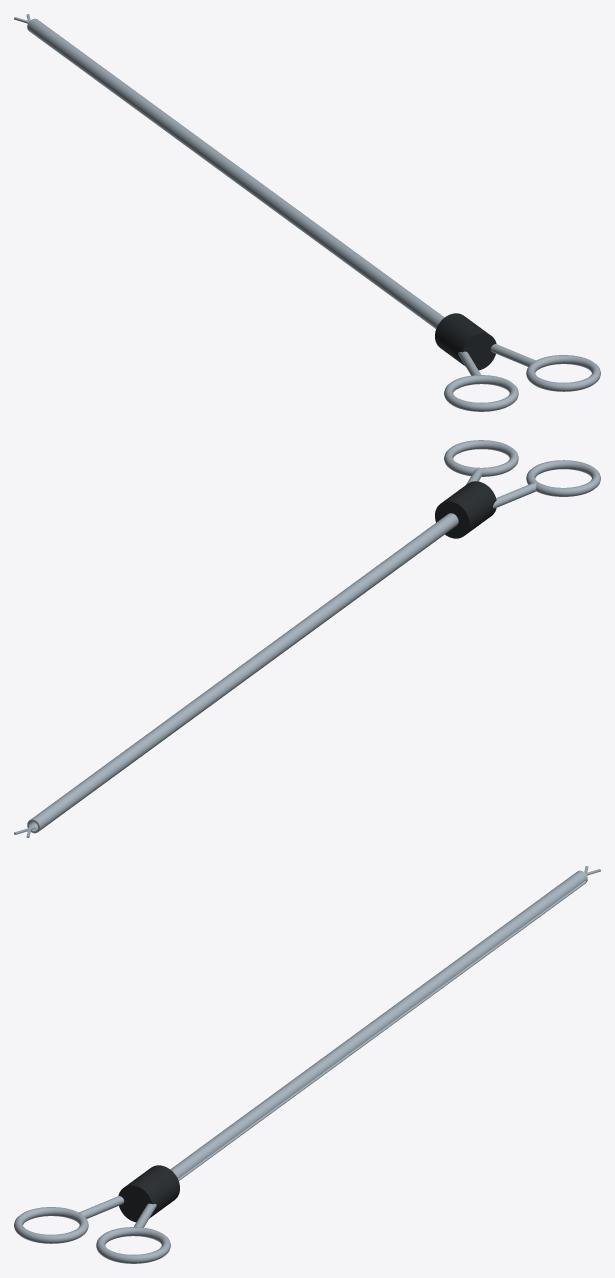
Rendered from optical-grasping-forceps-32-3230-430hm-691e68fe4f25.glb.
The picture shows the model from 3 angles, top to bottom: view 1: azimuth 30°, elevation 25°; view 2: azimuth 150°, elevation 25°; view 3: azimuth 330°, elevation 25°; orthographic projection.
Parts seen in each view (by area): view 1: Optical_Forceps_Telescope_Guide, Optical_Forceps_Proximal_Coupler, Finger_Ring_L, Finger_Ring_R; view 2: Optical_Forceps_Telescope_Guide, Optical_Forceps_Proximal_Coupler, Finger_Ring_L, Finger_Ring_R; view 3: Optical_Forceps_Telescope_Guide, Optical_Forceps_Proximal_Coupler, Optical_Forceps_Control_Rod, Finger_Ring_R, Finger_Ring_L.
Boxes of the visible parts, x1,y1,x2,y2 form: Optical_Forceps_Telescope_Guide: (27,18,444,328); Optical_Forceps_Proximal_Coupler: (435,313,496,370); Finger_Ring_L: (444,375,518,411); Finger_Ring_R: (526,355,600,391); Optical_Forceps_Telescope_Guide: (27,513,458,833); Optical_Forceps_Proximal_Coupler: (435,481,496,538); Finger_Ring_L: (526,460,600,496); Finger_Ring_R: (444,440,518,476); Optical_Forceps_Telescope_Guide: (170,870,587,1178); Optical_Forceps_Proximal_Coupler: (118,1165,179,1222); Optical_Forceps_Control_Rod: (178,881,586,1180); Finger_Ring_R: (96,1227,170,1263); Finger_Ring_L: (14,1207,88,1243).
Size of the model in its own units: 0.093 by 0.022 by 0.5701.
